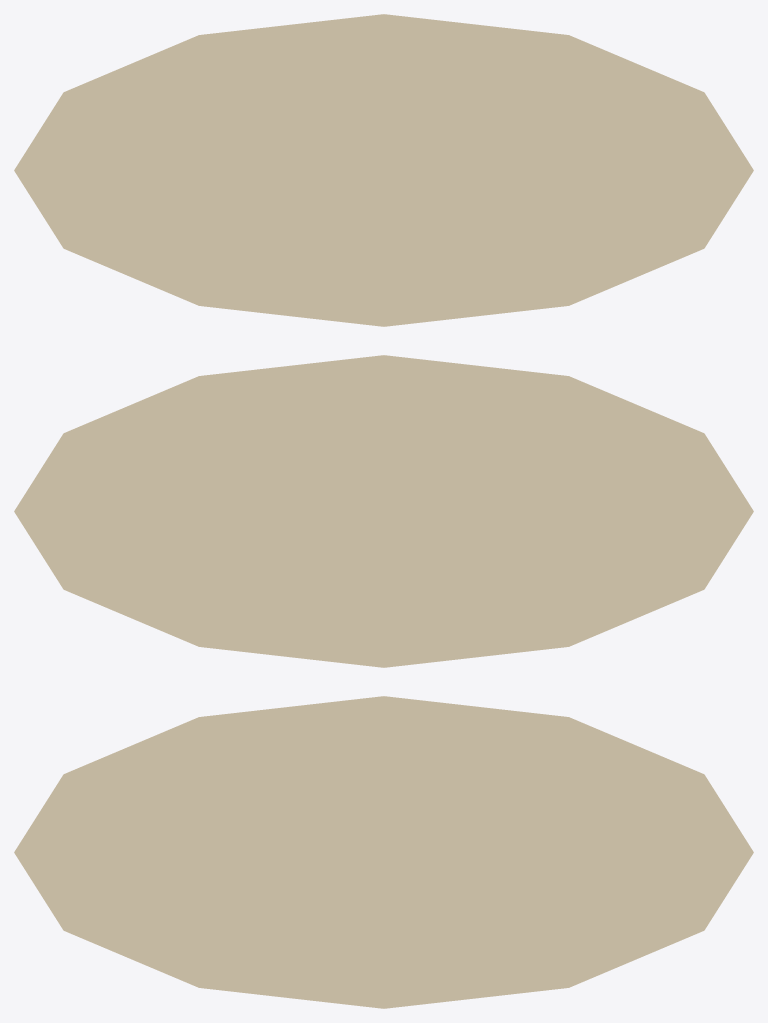
The model's file is lampDesk_steel_lens.glb.
The picture shows the model from 3 angles, top to bottom: view 1: azimuth 30°, elevation 25°; view 2: azimuth 150°, elevation 25°; view 3: azimuth 270°, elevation 25°; orthographic projection.
Parts seen in each view (by area): view 1: lampDesk_steel_lens; view 2: lampDesk_steel_lens; view 3: lampDesk_steel_lens.
Boxes of the visible parts, x1,y1,x2,y2 form: lampDesk_steel_lens: (14,14,753,326); lampDesk_steel_lens: (14,355,753,667); lampDesk_steel_lens: (14,696,753,1008).
Bounding box in the file's own units: 0.14 × 0 × 0.14.
